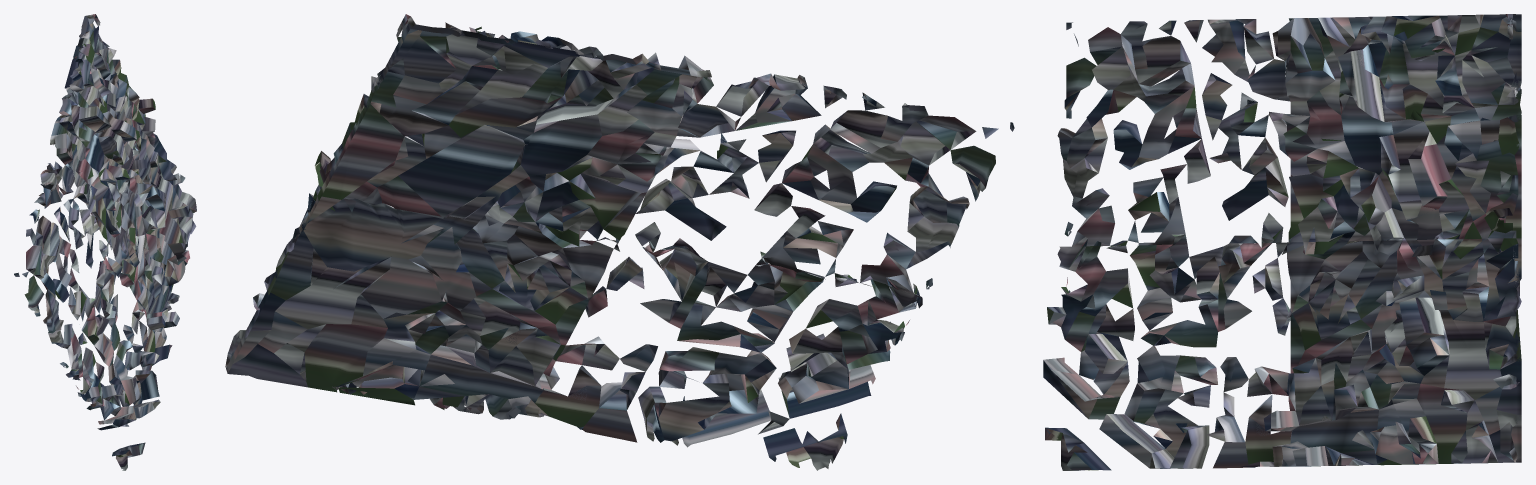
The picture shows the model from 3 angles, left to right: view 1: azimuth 30°, elevation 25°; view 2: azimuth 150°, elevation 25°; view 3: azimuth 270°, elevation 25°; orthographic projection. The views are drawn at different scales.
Visible parts, largest first — view 1: node_3043627270436071_mesh0, node_3043627270436071_mesh1; view 2: node_3043627270436071_mesh0, node_3043627270436071_mesh1; view 3: node_3043627270436071_mesh0, node_3043627270436071_mesh1.
Part boxes in pixels (x1,y1,x2,y2): node_3043627270436071_mesh0: (14,14,196,470); node_3043627270436071_mesh1: (22,18,188,450); node_3043627270436071_mesh0: (225,14,1014,470); node_3043627270436071_mesh1: (253,24,998,442); node_3043627270436071_mesh0: (1043,14,1521,470); node_3043627270436071_mesh1: (1049,15,1519,466).
Size of the model in its own units: 581 by 583 by 466.
Materials: 2 (2 with a texture image).
